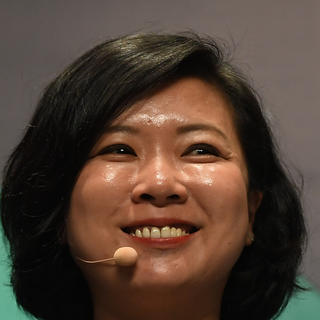eye: (179, 140, 224, 165), (98, 139, 141, 163)
